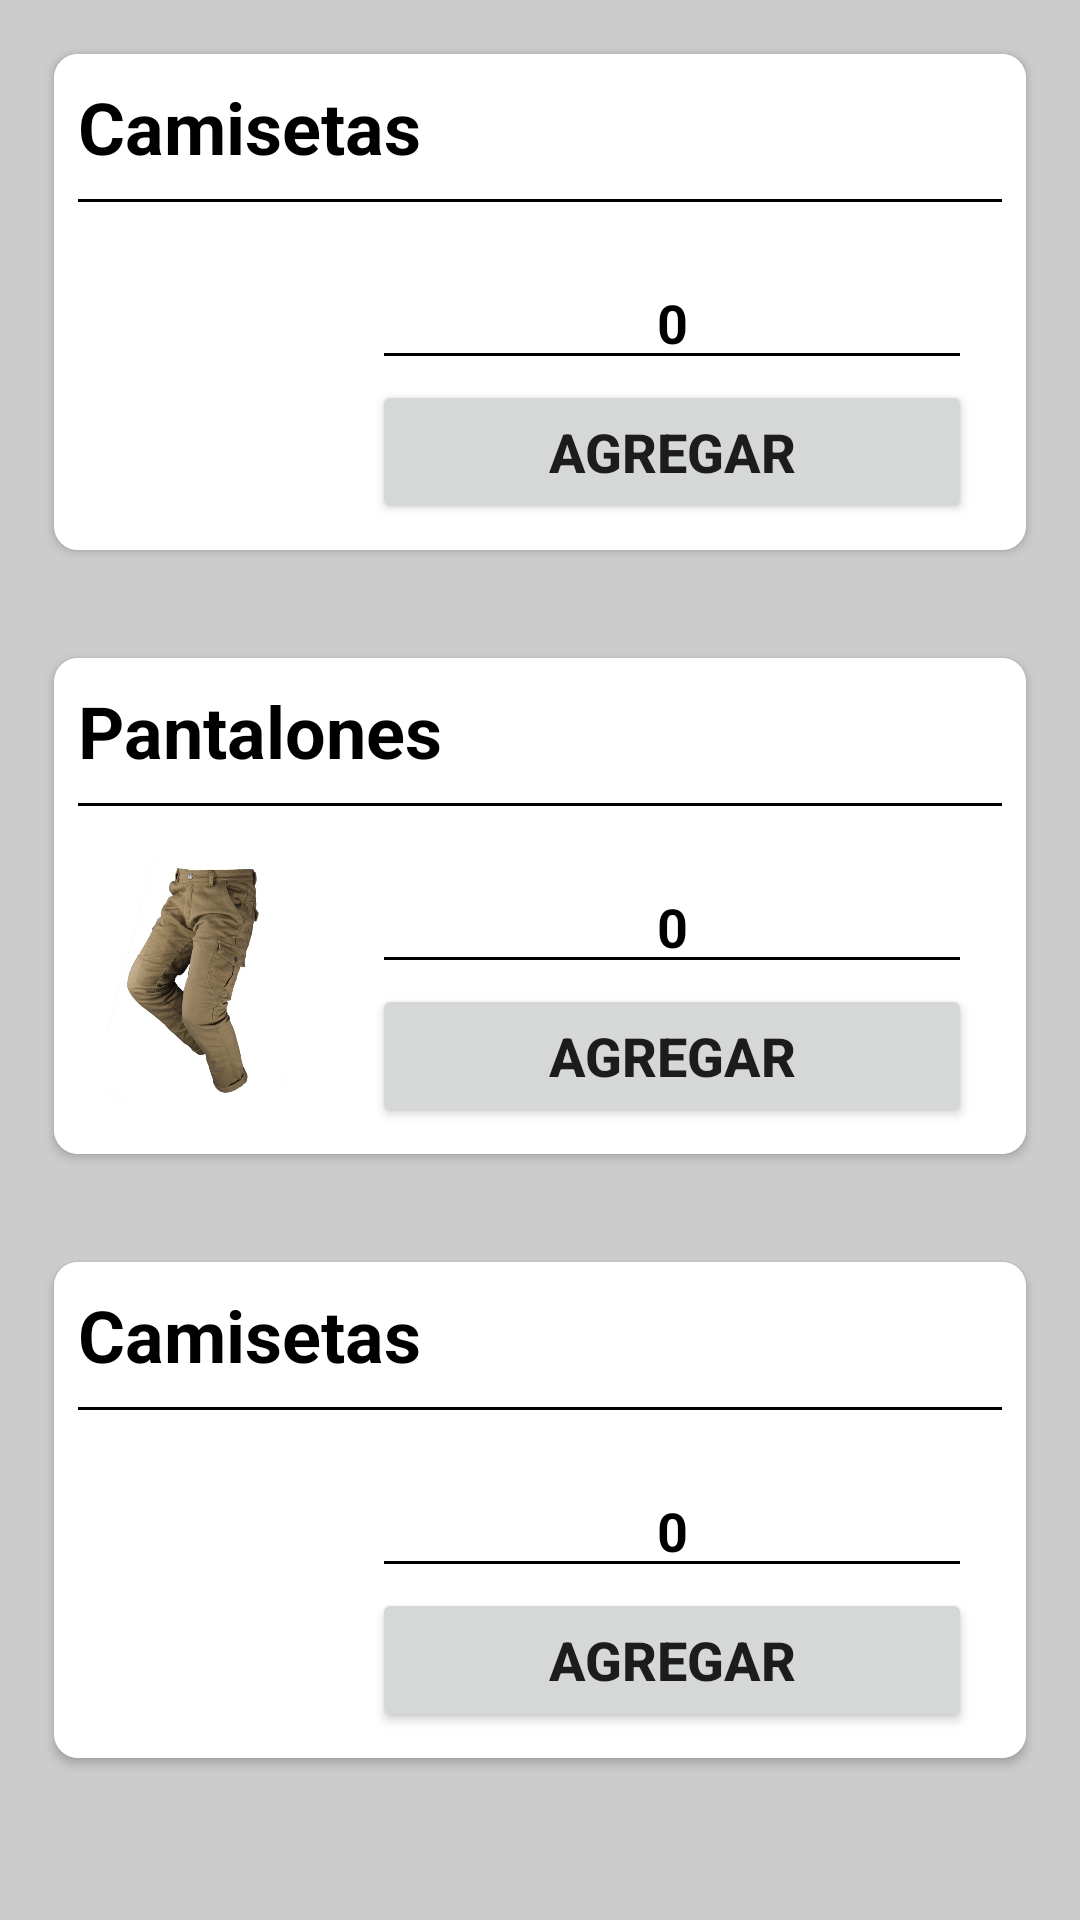

Named icons in this screenshot (1080*1920) and their centers, point (x, y):
pants: point (193, 980)
